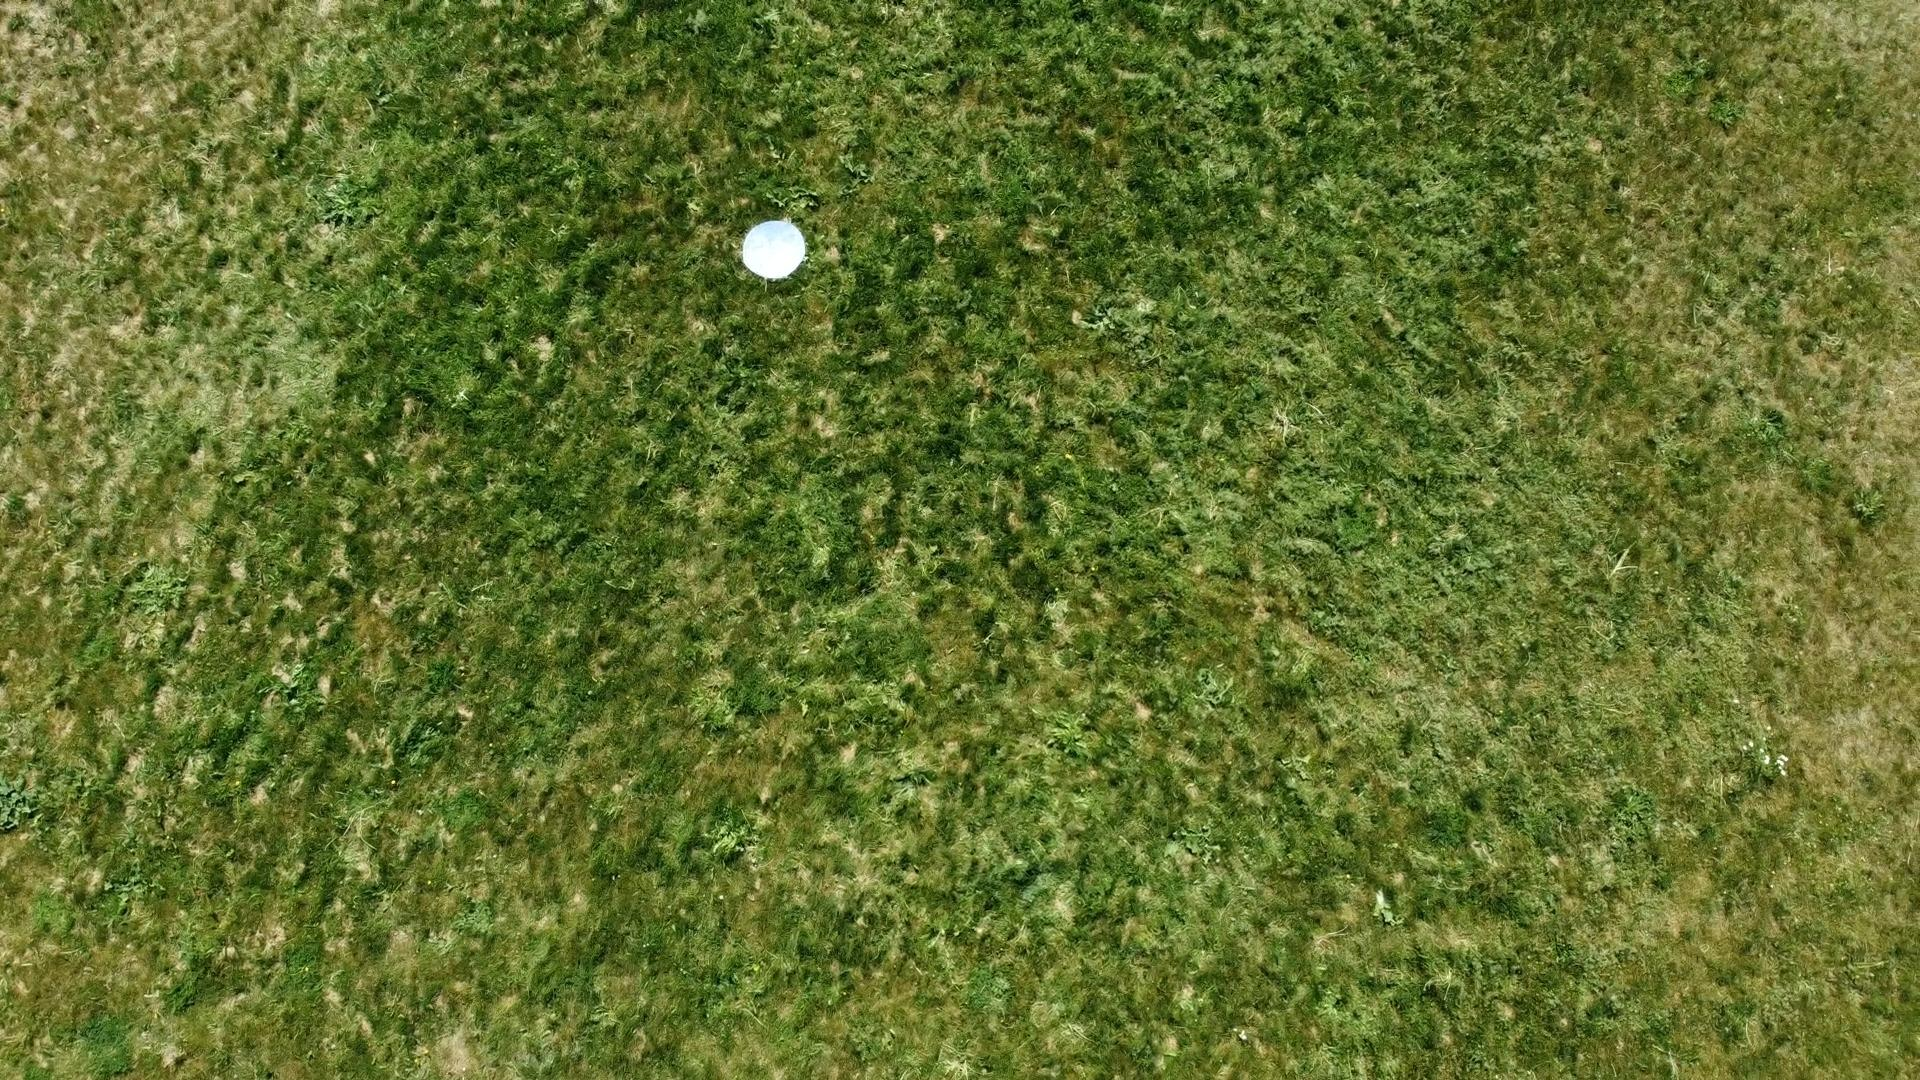Blue: (738, 218, 808, 281)
